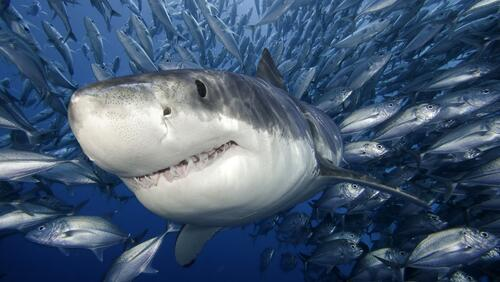shark: (67, 48, 432, 268)
